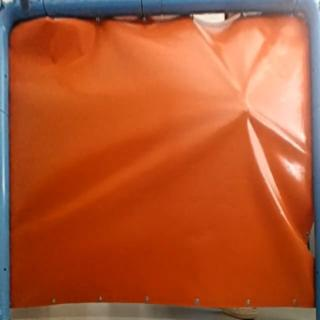Hit-hRxx: (241, 102, 254, 116)
